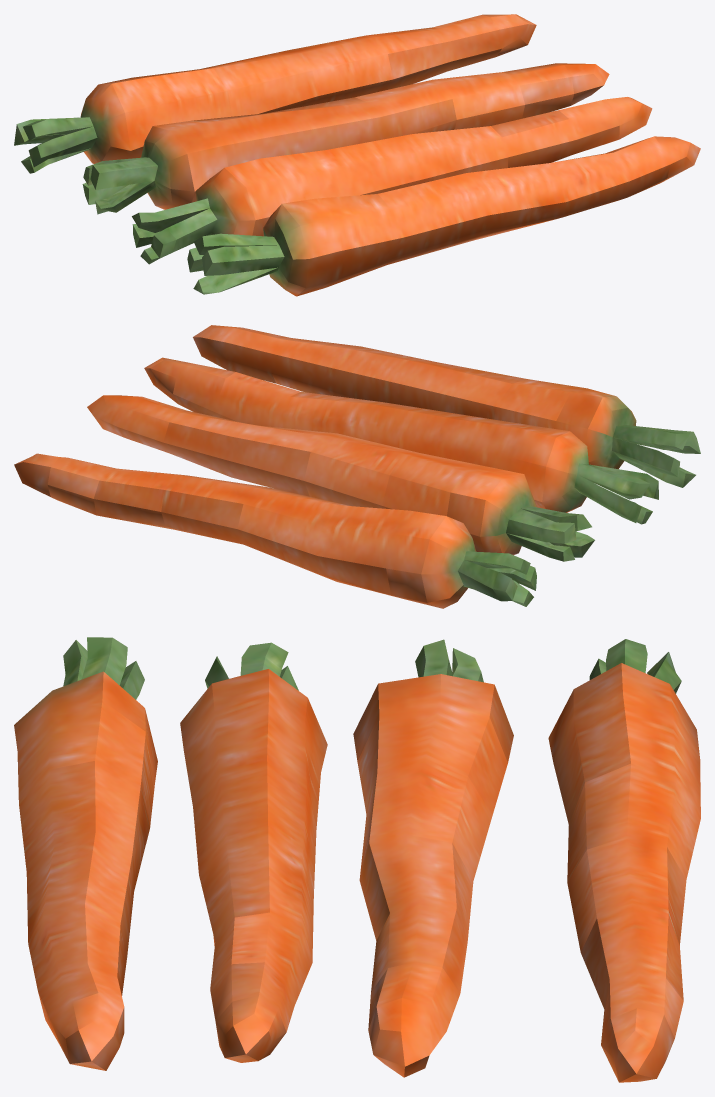
File: CarrotCucumber_carrotgroup.fbx
3 renders of one model, top to bottom at view 1: azimuth 30°, elevation 25°; view 2: azimuth 150°, elevation 25°; view 3: azimuth 270°, elevation 25°, orthographic. The views are drawn at different scales.
Parts seen in each view (by area): view 1: CarrotGroup; view 2: CarrotGroup; view 3: CarrotGroup.
Part boxes in pixels (x1,y1,x2,y2): CarrotGroup: (14, 14, 700, 296); CarrotGroup: (14, 325, 700, 608); CarrotGroup: (14, 637, 700, 1082).
Bounding box in the file's own units: 0.4612 × 0.0763 × 0.3346.
